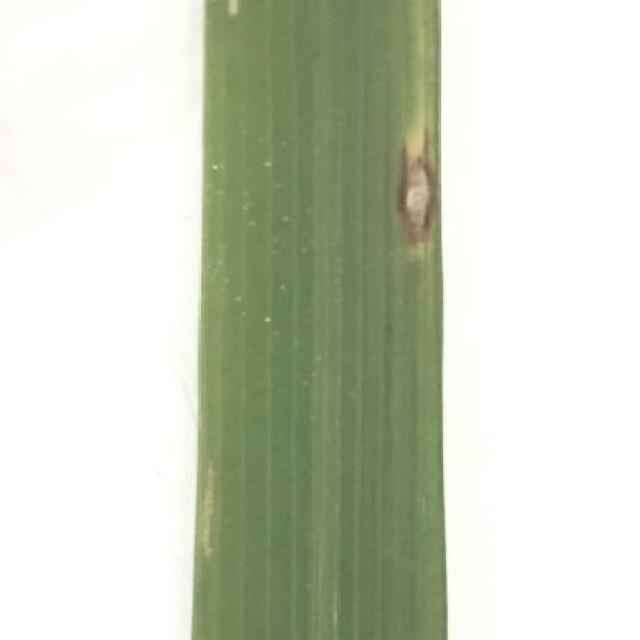Bacterial_Leaf_Blight: (373, 92, 465, 277), (203, 0, 272, 35)
